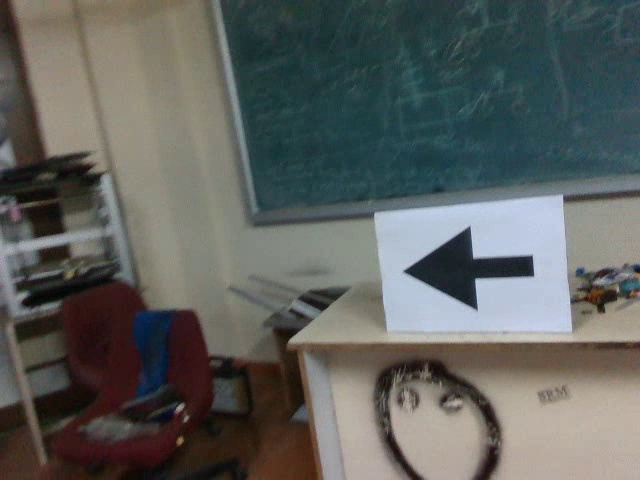Left: (398, 222, 542, 320)
